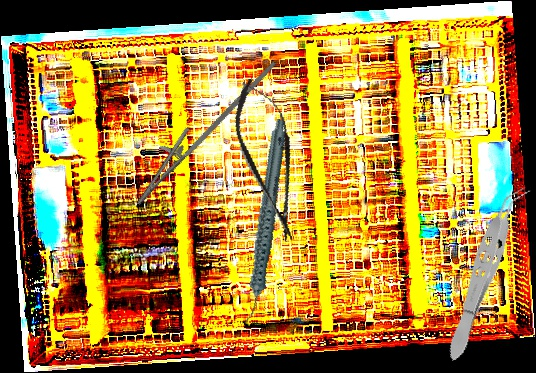Handpiece: (201, 118, 327, 324)
Micro Scissor: (224, 72, 315, 248)
Needle Holder: (124, 37, 277, 221)
Tissue Forceps: (439, 178, 532, 366)
